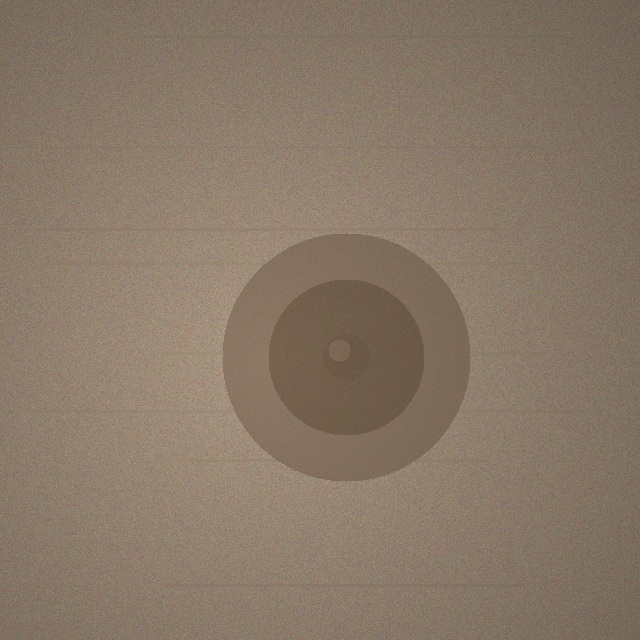good: (222, 233, 470, 481)
